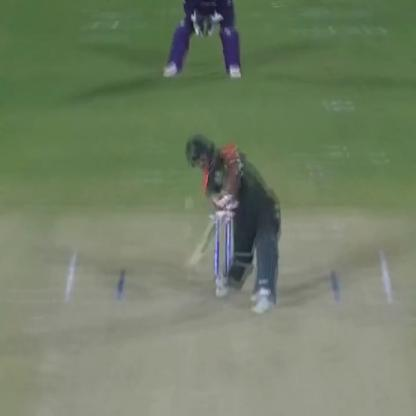ball: (180, 194, 197, 210), (181, 224, 195, 236)
bat: (175, 206, 234, 272)
pitch: (41, 248, 410, 416)
